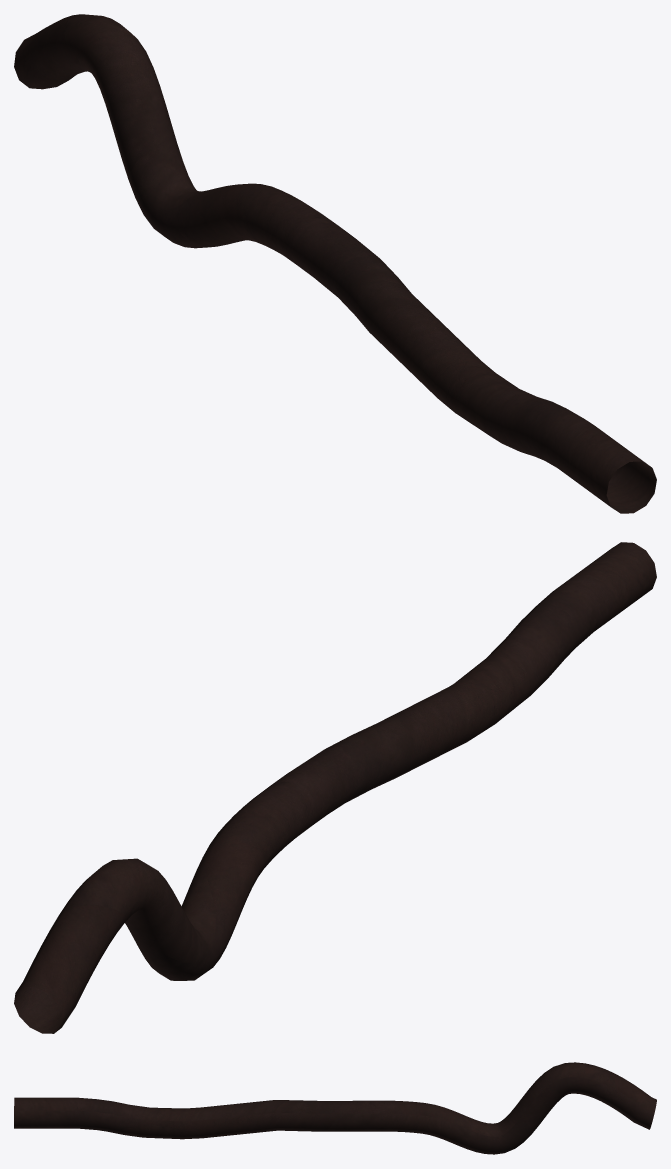
The model's file is Cable02.fbx.
3 views of the same model, one above another, from view 1: azimuth 30°, elevation 25°; view 2: azimuth 150°, elevation 25°; view 3: azimuth 270°, elevation 25° (orthographic). The views are drawn at different scales.
Parts seen in each view (by area): view 1: Cab02; view 2: Cab02; view 3: Cab02.
Boxes of the visible parts, x1=… form: Cab02: x1=14, y1=14, x2=656, y2=513; Cab02: x1=14, y1=542, x2=656, y2=1033; Cab02: x1=14, y1=1062, x2=656, y2=1154.
Size of the model in its own units: 13.48 by 29.9 by 196.
